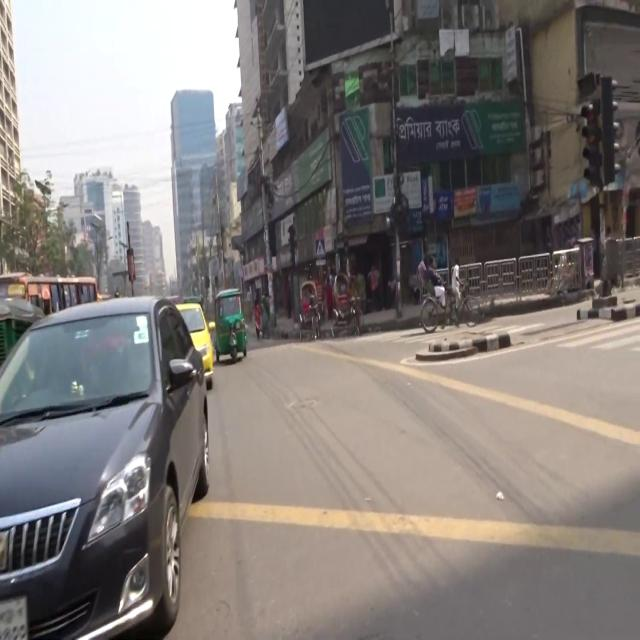black: (0, 293, 213, 639)
